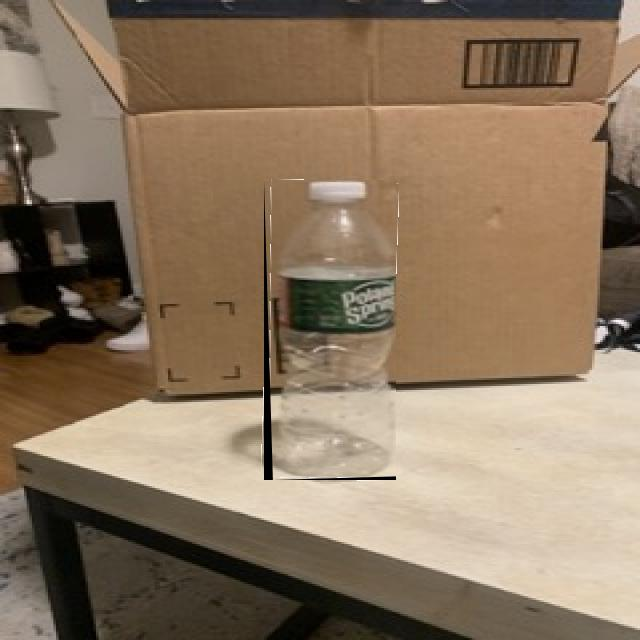water_bottle: (264, 180, 396, 480)
